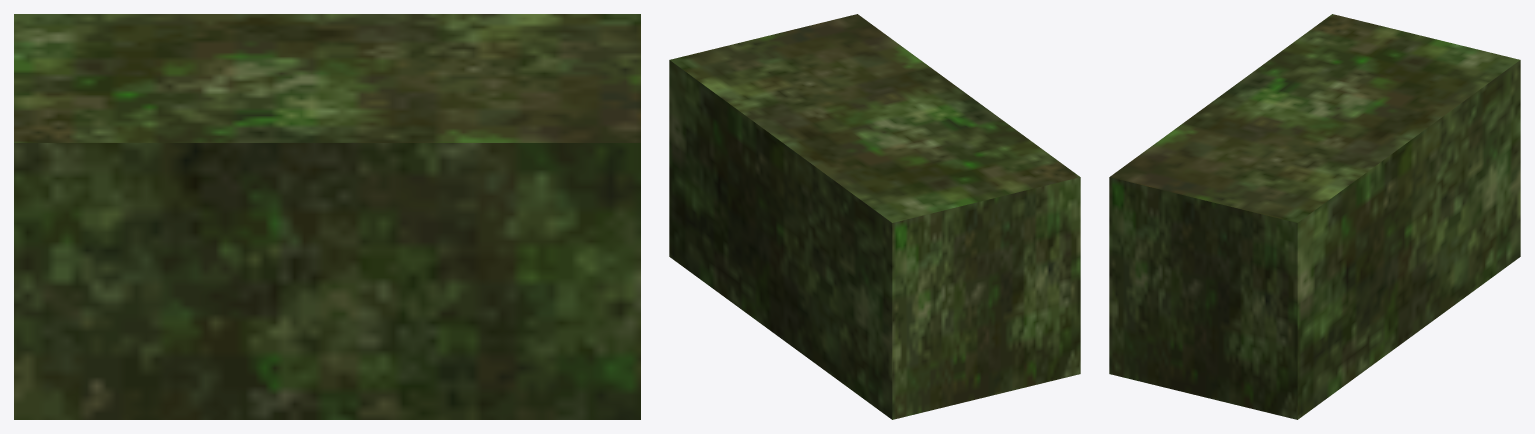
File: OVERHILL_A_01_STONE_BLOCK_09.fbx
3 renders of one model, left to right at view 1: azimuth 30°, elevation 25°; view 2: azimuth 150°, elevation 25°; view 3: azimuth 270°, elevation 25°, orthographic. The views are drawn at different scales.
Parts seen in each view (by area): view 1: OVERHILL_A_01_STONE_BLOCK_09; view 2: OVERHILL_A_01_STONE_BLOCK_09; view 3: OVERHILL_A_01_STONE_BLOCK_09.
Boxes of the visible parts, x1,y1,x2,y2 form: OVERHILL_A_01_STONE_BLOCK_09: (14,14,640,419); OVERHILL_A_01_STONE_BLOCK_09: (669,14,1080,419); OVERHILL_A_01_STONE_BLOCK_09: (1109,14,1520,419).
Size of the model in its own units: 18014 by 7913 by 14969.
1 material, 1 textured.
